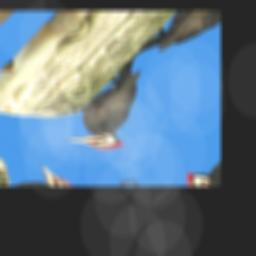Woodpecker: (45, 51, 191, 161)
